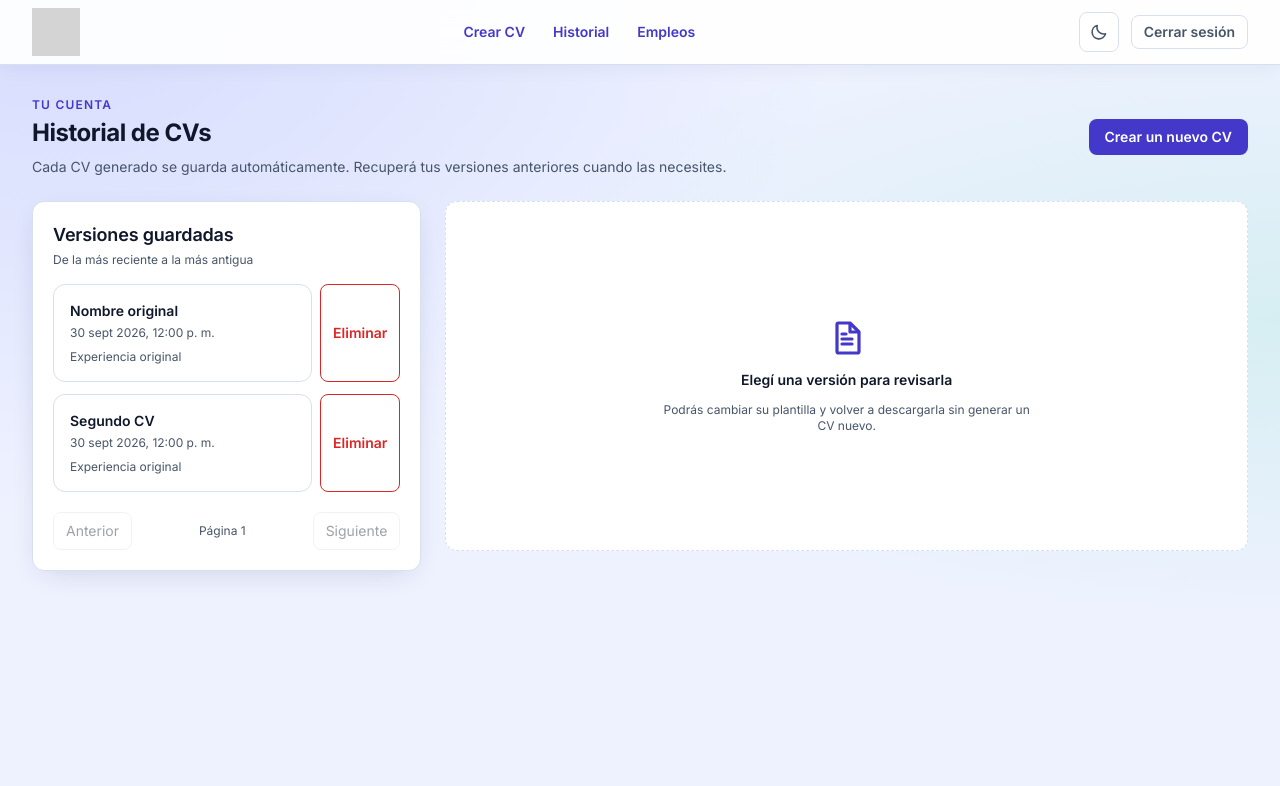
Historial de CVs › al confirmar elimina solo ese CV y cierra su vista previa abierta
What coordinates should you click on to do the following:
click the button with test id "history-item-resume-a"
I would click on:
 (183, 333)
Its box is [53,284,312,382].
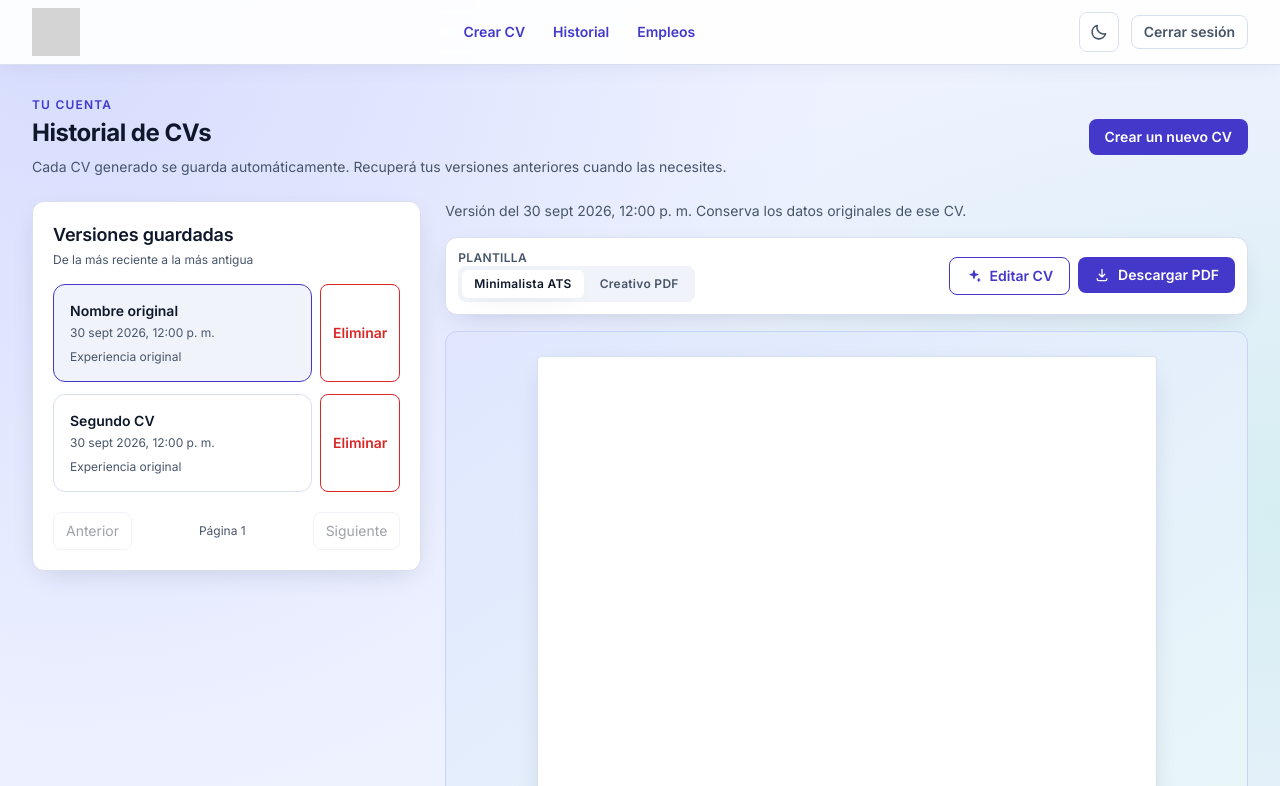
What coordinates should you click on to do the following:
click the button with test id "history-delete-resume-a"
I would click on:
 (360, 333)
Its box is [320,284,400,382].
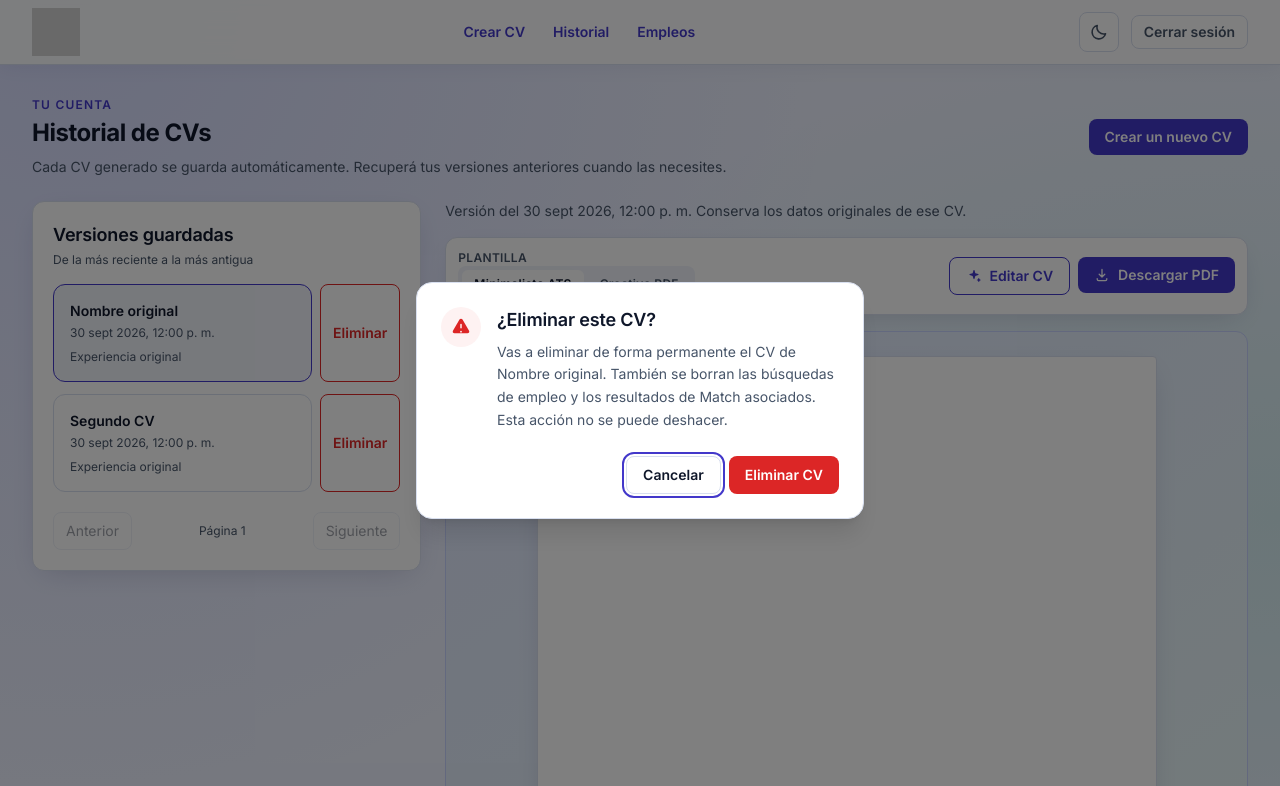
What coordinates should you click on to do the following:
click the button with test id "confirm-dialog-confirm"
I would click on:
 (784, 474)
Its box is [729,456,839,494].
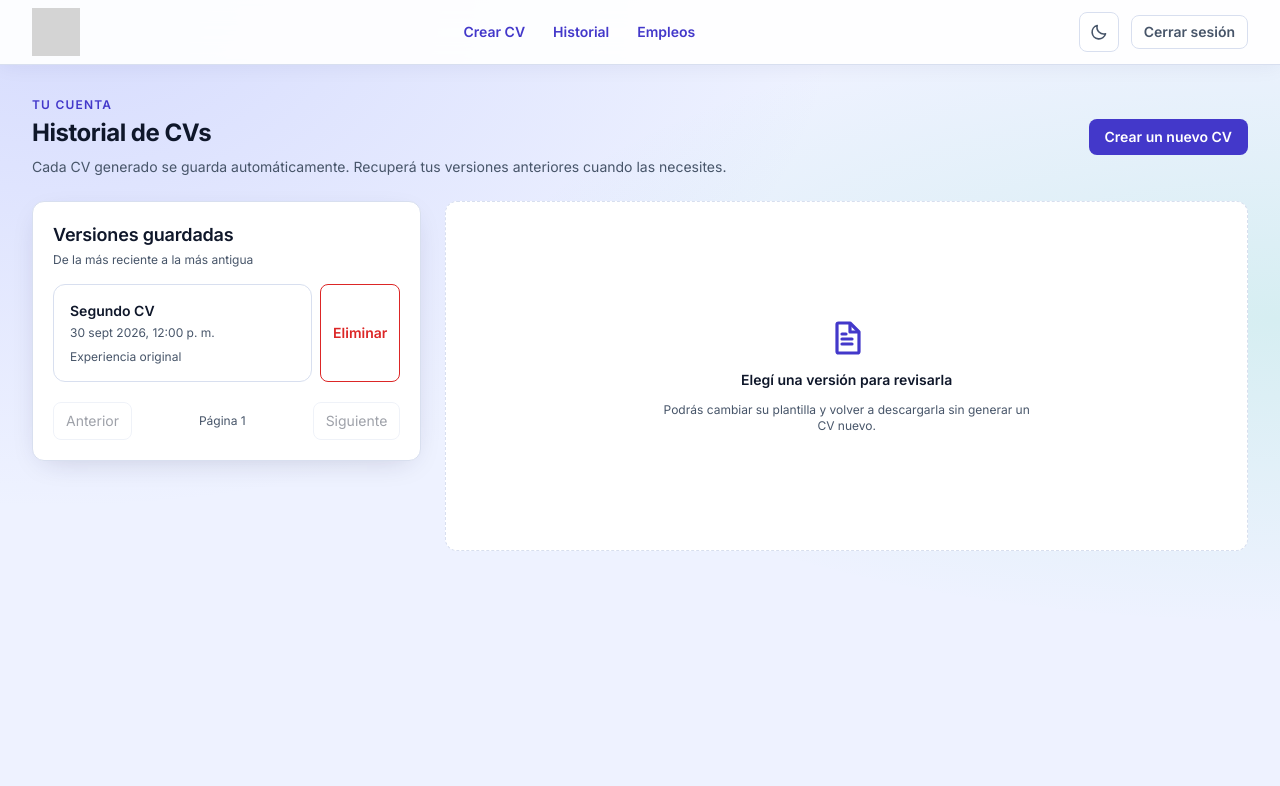
Expected: the button with test id "history-item-resume-b" is shown, [53,284,312,382]
Expected: the button with test id "history-item-resume-a" is gone
